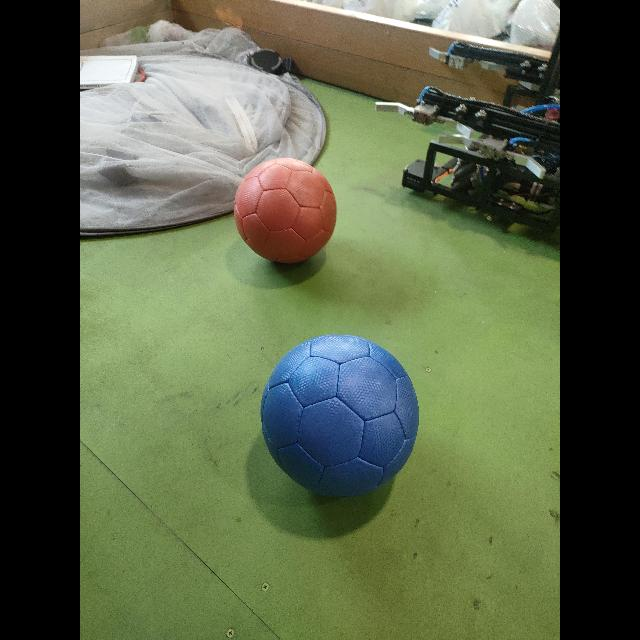B: (260, 335, 420, 502)
R: (233, 158, 337, 268)
